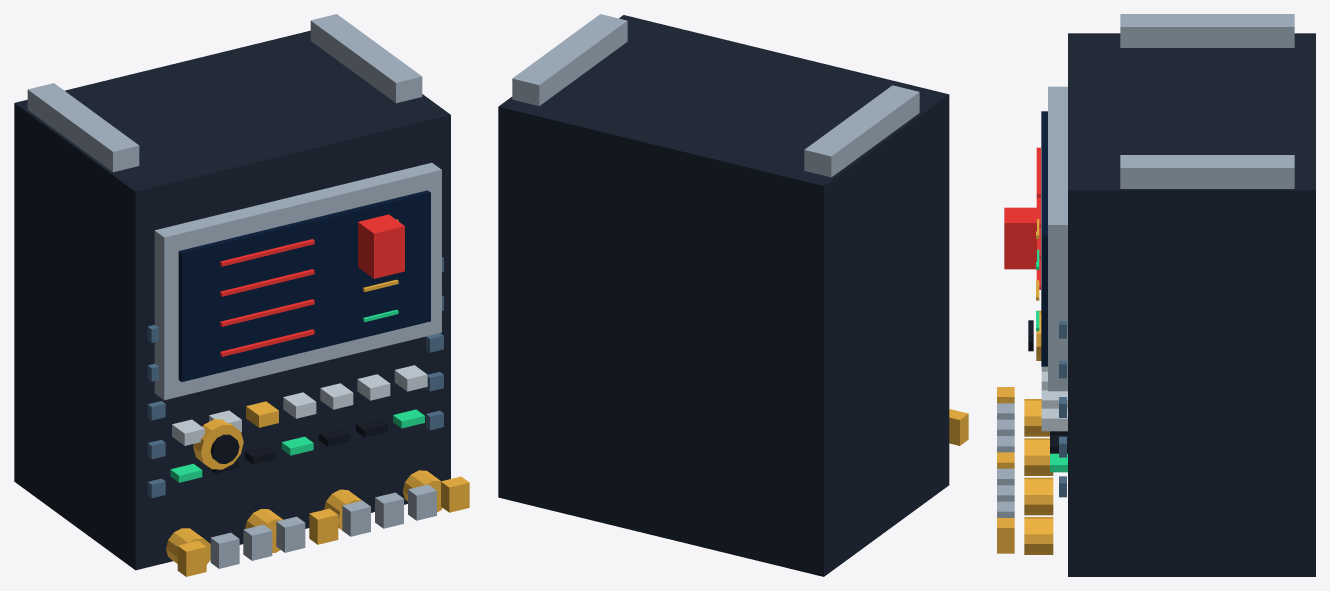
The model's file is 75_L85_EmergencyApproachHoldStation.fbx.
3 renders of one model, left to right at view 1: azimuth 30°, elevation 25°; view 2: azimuth 150°, elevation 25°; view 3: azimuth 270°, elevation 25°, orthographic. The views are drawn at different scales.
Visible parts, largest first — view 1: L85_EmergencyApproachHoldStation, L85_EmergencyApproachHoldStation_Part_0010, L85_EmergencyApproachHoldStation_Part_0011; view 2: L85_EmergencyApproachHoldStation; view 3: L85_EmergencyApproachHoldStation.
Part boxes in pixels (bbox=[...]): L85_EmergencyApproachHoldStation: bbox=[14, 14, 469, 576]; L85_EmergencyApproachHoldStation_Part_0010: bbox=[193, 419, 243, 469]; L85_EmergencyApproachHoldStation_Part_0011: bbox=[210, 434, 239, 463]; L85_EmergencyApproachHoldStation: bbox=[498, 14, 968, 576]; L85_EmergencyApproachHoldStation: bbox=[997, 14, 1315, 576].
Size of the model in its own units: 95.88 by 116 by 82.21.
